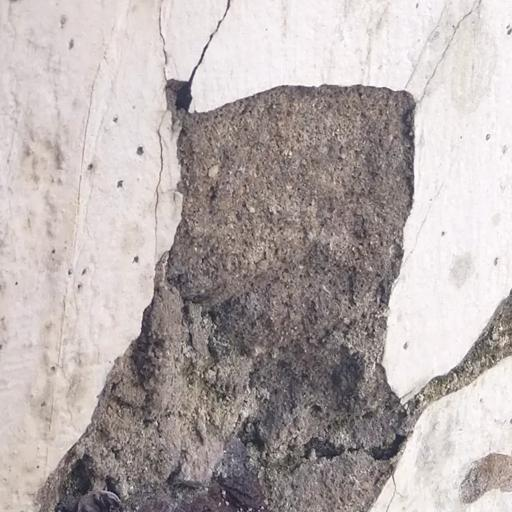spalling: (35, 57, 512, 512)
